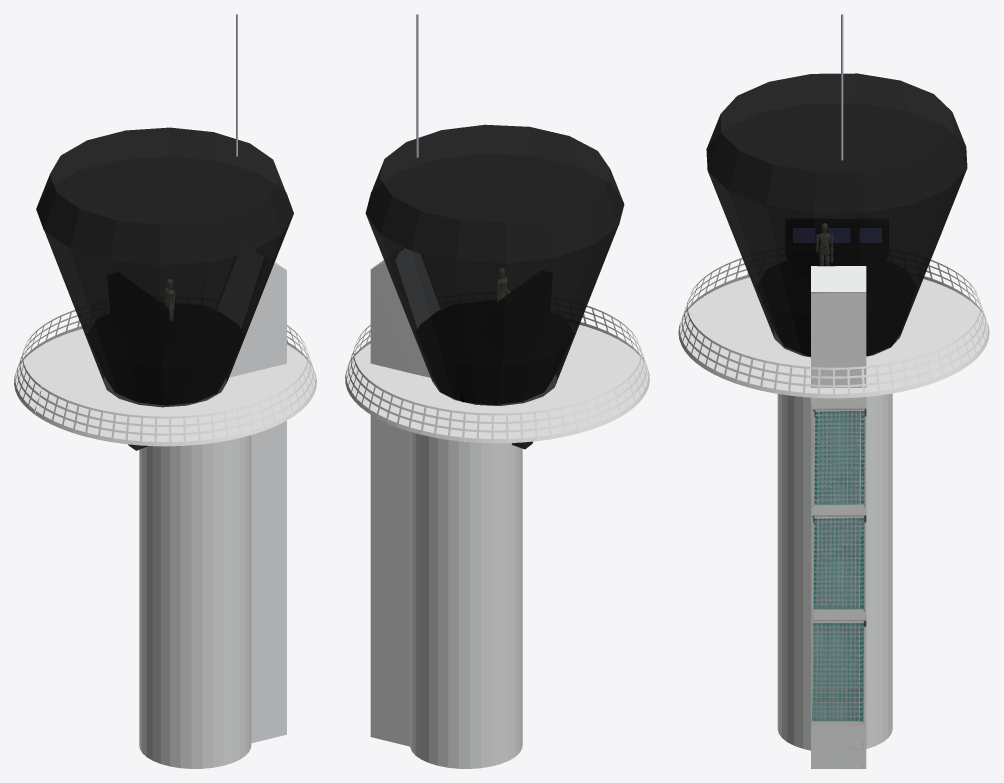
Rendered from Tour_Controle.glb.
3 renders of one model, left to right at view 1: azimuth 30°, elevation 25°; view 2: azimuth 150°, elevation 25°; view 3: azimuth 270°, elevation 25°, orthographic. The views are drawn at different scales.
Parts seen in each view (by area): view 1: Cone.001, Cylinder, Cone_1, Cube.005, cylinder, box; view 2: Cone.001, Cylinder, Cube.005, Cone_1, cylinder, box; view 3: Cone.001, Cube.005, Cylinder, Cone_1, cylinder, box.
Boxes of the visible parts, x1,y1,x2,y2 form: Cone.001: [36, 127, 293, 450]; Cylinder: [139, 435, 251, 768]; Cone_1: [14, 310, 316, 446]; Cube.005: [217, 251, 286, 743]; cylinder: [87, 302, 243, 404]; box: [107, 272, 180, 356]; Cone.001: [365, 124, 624, 449]; Cylinder: [410, 432, 522, 768]; Cube.005: [370, 248, 439, 746]; Cone_1: [345, 305, 649, 443]; cylinder: [416, 300, 573, 404]; box: [479, 271, 552, 355]; Cone.001: [706, 73, 967, 357]; Cube.005: [811, 266, 866, 768]; Cylinder: [777, 393, 892, 750]; Cone_1: [678, 258, 989, 398]; cylinder: [757, 260, 915, 355]; box: [786, 219, 888, 273].
Size of the model in its own units: 9.49 by 24.81 by 9.49.
Materials: 10 (4 with a texture image).
